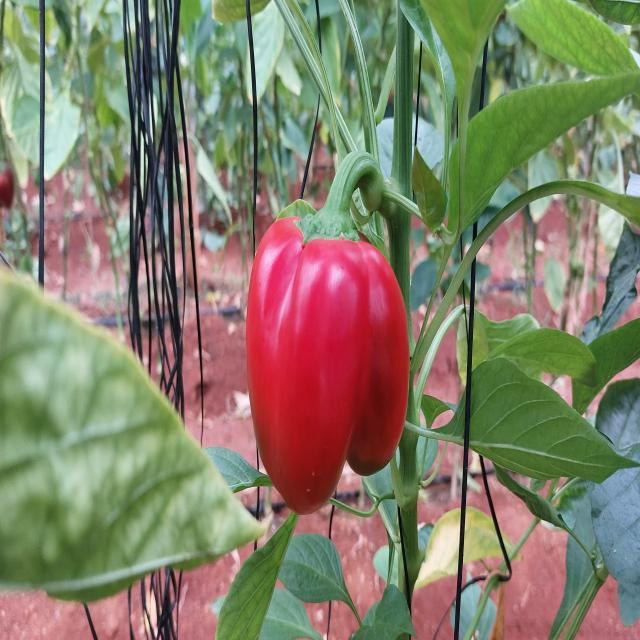Red-Ready-to-Harvest: (242, 212, 417, 528)
